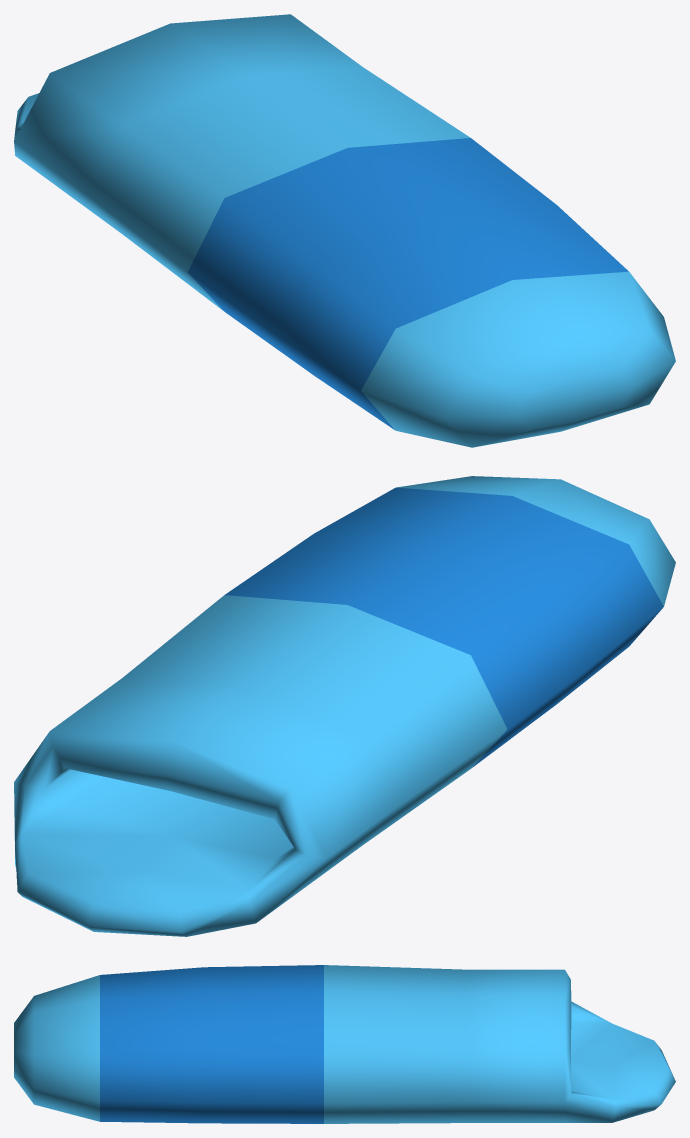
The model's file is BagBed_02.fbx.
The picture shows the model from 3 angles, top to bottom: view 1: azimuth 30°, elevation 25°; view 2: azimuth 150°, elevation 25°; view 3: azimuth 270°, elevation 25°; orthographic projection. The views are drawn at different scales.
Visible parts, largest first — view 1: BagBed_02; view 2: BagBed_02; view 3: BagBed_02.
Boxes of the visible parts, bbox=[...] form: BagBed_02: bbox=[14, 14, 675, 447]; BagBed_02: bbox=[14, 476, 675, 936]; BagBed_02: bbox=[14, 965, 675, 1123].
Size of the model in its own units: 88.65 by 37.39 by 234.
